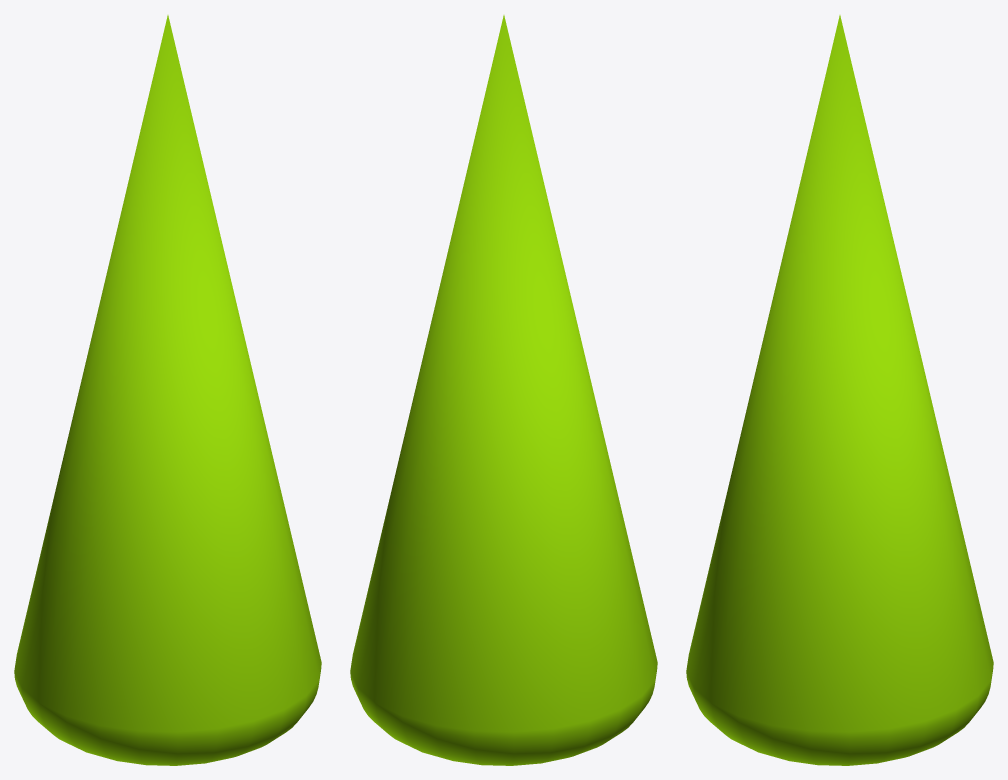
Rendered from HPK21m.glb.
3 views of the same model, side by side, from view 1: azimuth 30°, elevation 25°; view 2: azimuth 150°, elevation 25°; view 3: azimuth 270°, elevation 25° (orthographic).
Visible parts, largest first — view 1: HPK21m; view 2: HPK21m; view 3: HPK21m.
Boxes of the visible parts, <box> form: HPK21m: <box>14,15,321,765</box>; HPK21m: <box>350,15,657,765</box>; HPK21m: <box>686,15,993,765</box>.
Size of the model in its own units: 8.03 by 21 by 8.03.
